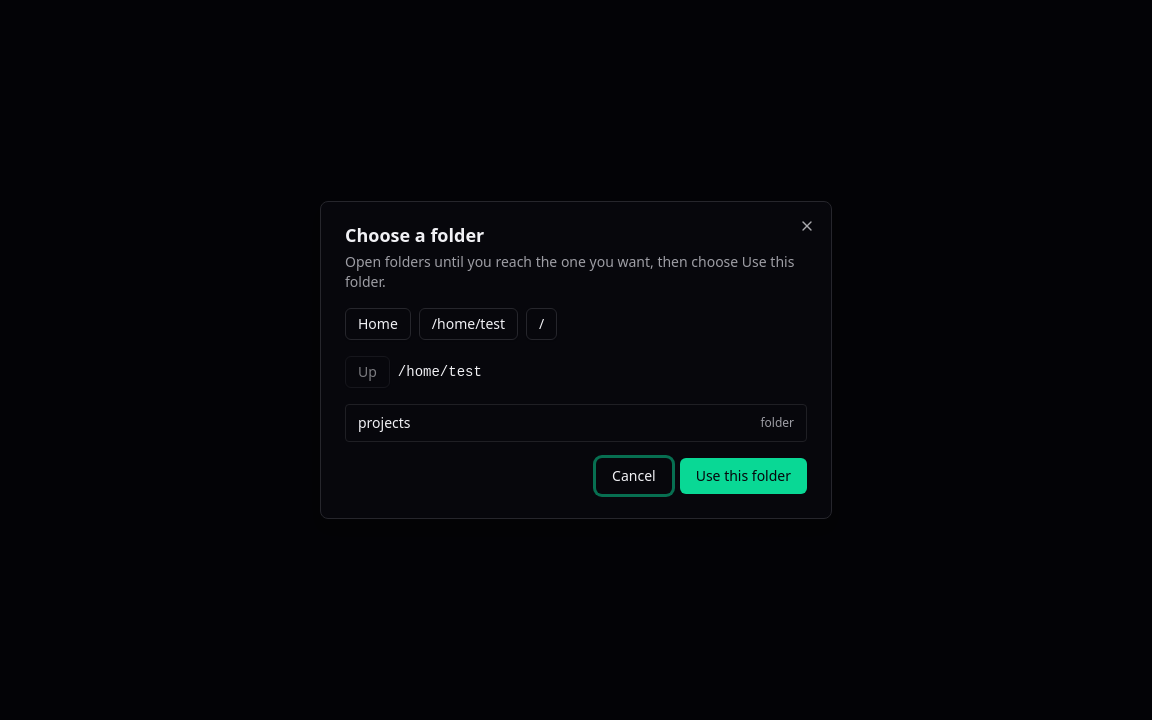
Scenario: FsBrowser (FP12 § G) › returns to the parent via Up
Click the text "projects" at (384, 423), box [358,413,411,433]
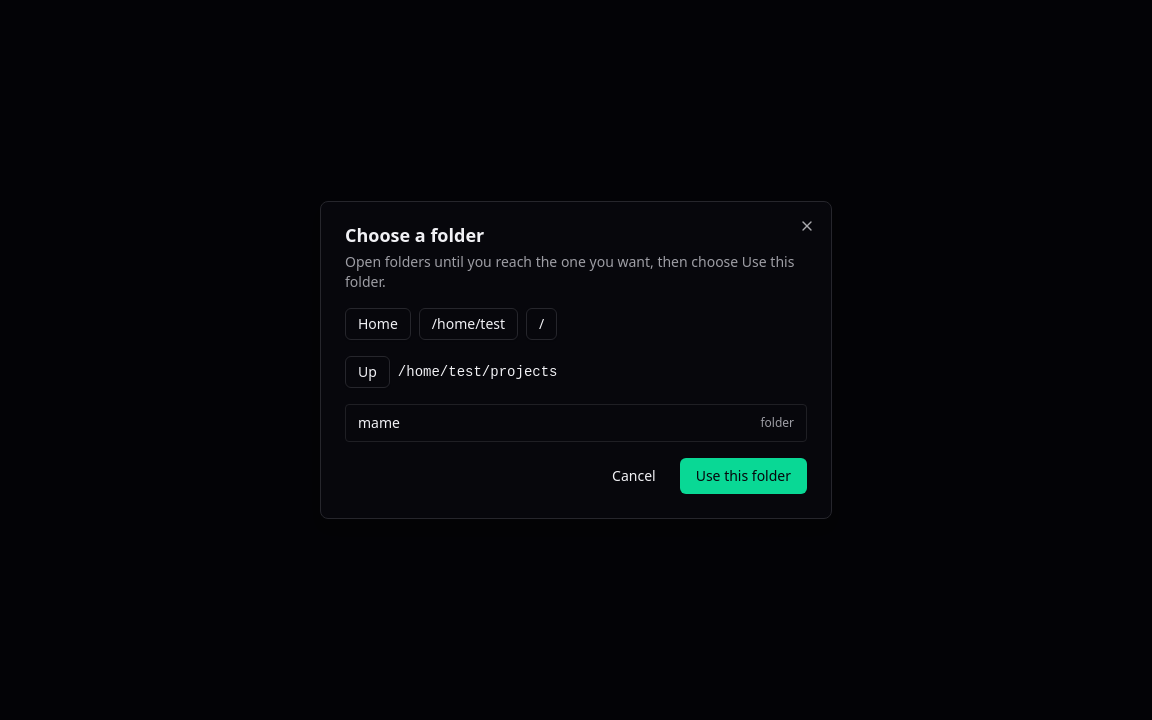
Check: the text "mame" is shown, box [358,413,400,433]
Click the button "Up" at (367, 372), box [345,356,390,388]
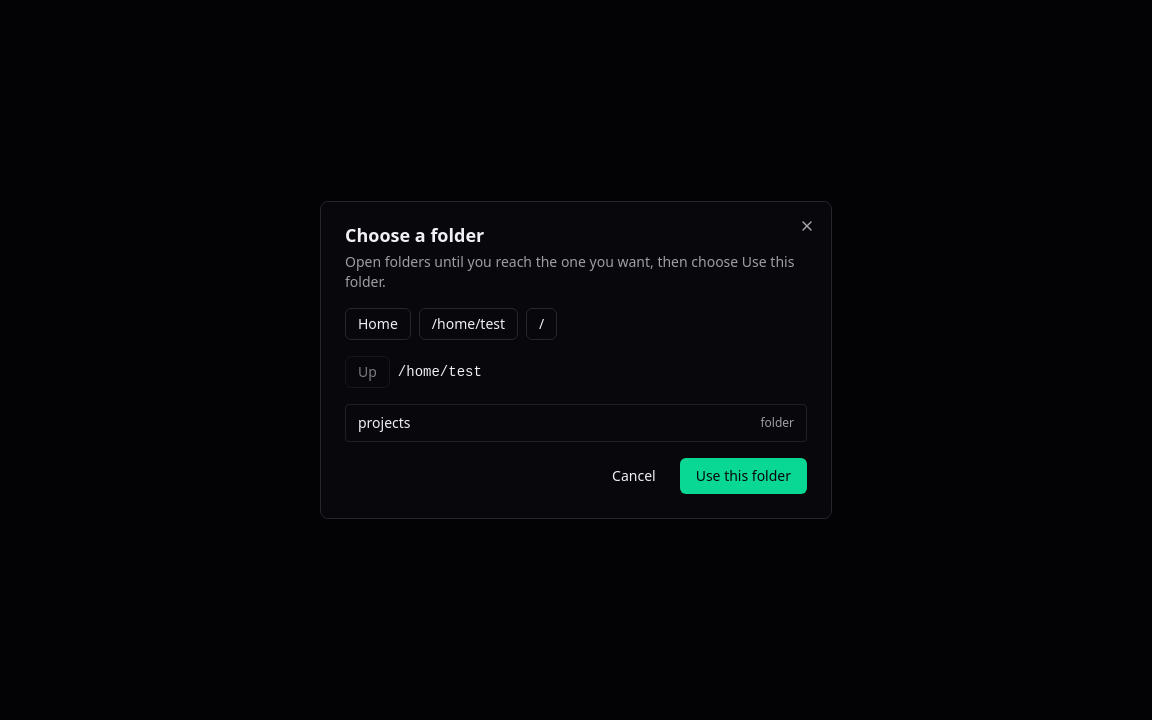
Check: the text "projects" is shown, box [358,413,411,433]
